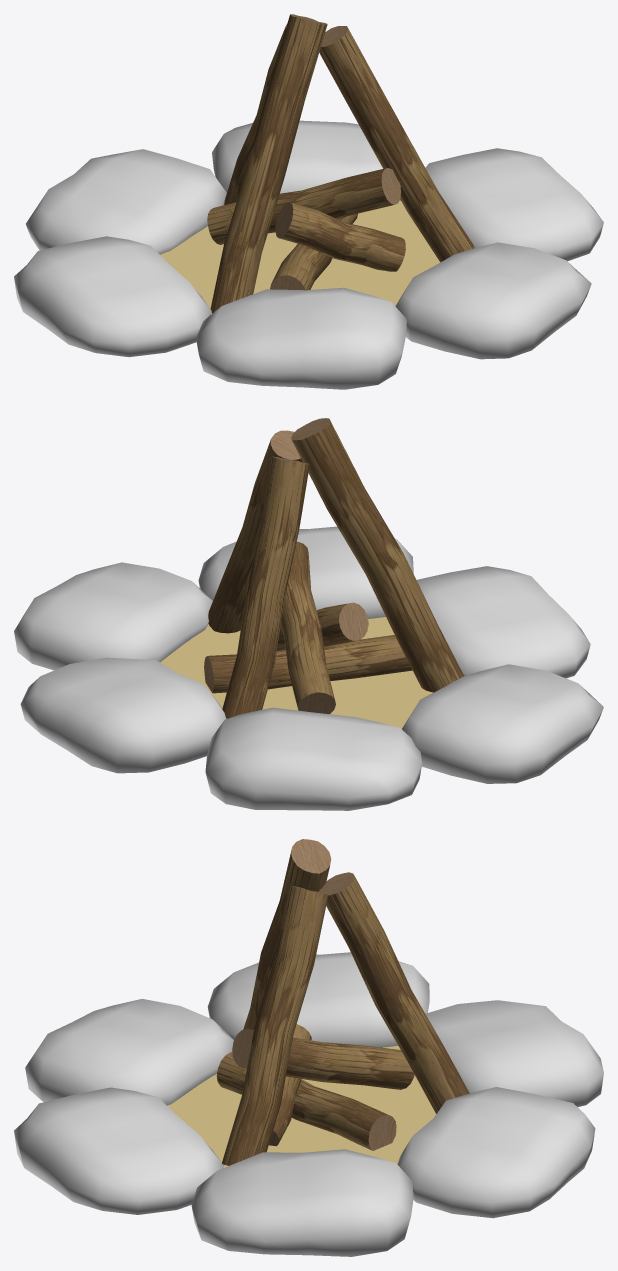
The model's file is Bonfire.fbx.
3 renders of one model, top to bottom at view 1: azimuth 30°, elevation 25°; view 2: azimuth 150°, elevation 25°; view 3: azimuth 270°, elevation 25°, orthographic. The views are drawn at different scales.
Parts seen in each view (by area): view 1: Cube.006; view 2: Cube.006; view 3: Cube.006.
Part boxes in pixels (box(x1,y1,x2,y2)): Cube.006: box(14, 14, 603, 389); Cube.006: box(14, 418, 603, 810); Cube.006: box(14, 839, 603, 1256).
Bounding box in the file's own units: 399 × 202 × 369.
